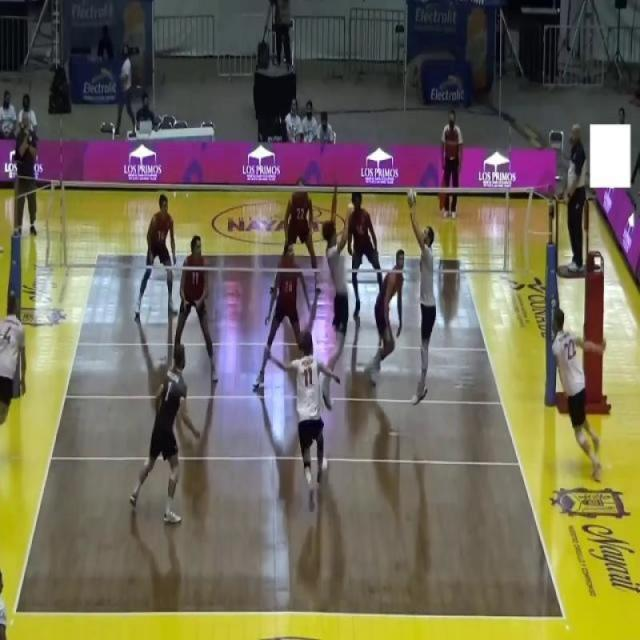volleyball: (407, 190, 417, 208)
